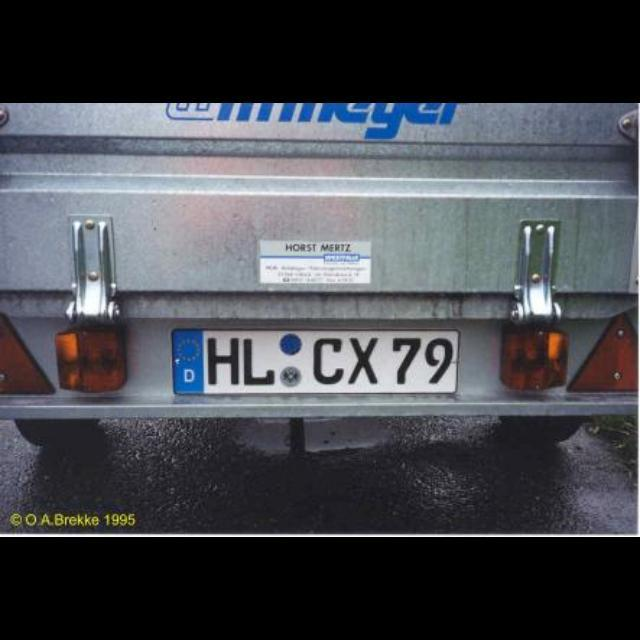license-plates: (172, 331, 459, 394)
